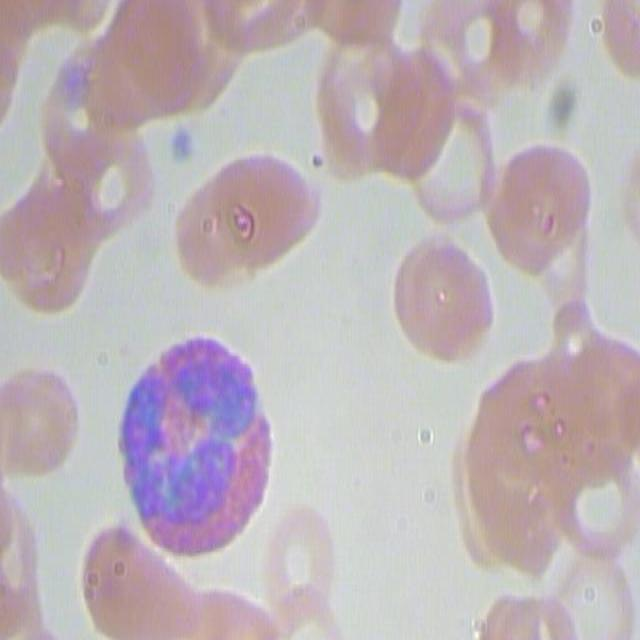RBC: (168, 160, 325, 279), (392, 236, 505, 366), (536, 314, 640, 448), (6, 178, 104, 320), (484, 144, 590, 270), (78, 525, 179, 640), (406, 101, 496, 227), (322, 35, 403, 171), (457, 462, 545, 580), (551, 447, 640, 562), (109, 0, 203, 104), (382, 45, 454, 176), (2, 366, 85, 478), (189, 0, 322, 66), (67, 136, 150, 237), (429, 3, 520, 92), (2, 495, 56, 640), (289, 0, 404, 67), (41, 58, 109, 170), (557, 552, 640, 640), (489, 0, 567, 88), (264, 502, 336, 595), (179, 577, 272, 640), (253, 584, 346, 636), (594, 0, 640, 88), (483, 604, 581, 640)
WBC: (114, 334, 281, 563)
platelets: (60, 54, 93, 104), (171, 120, 203, 161)
